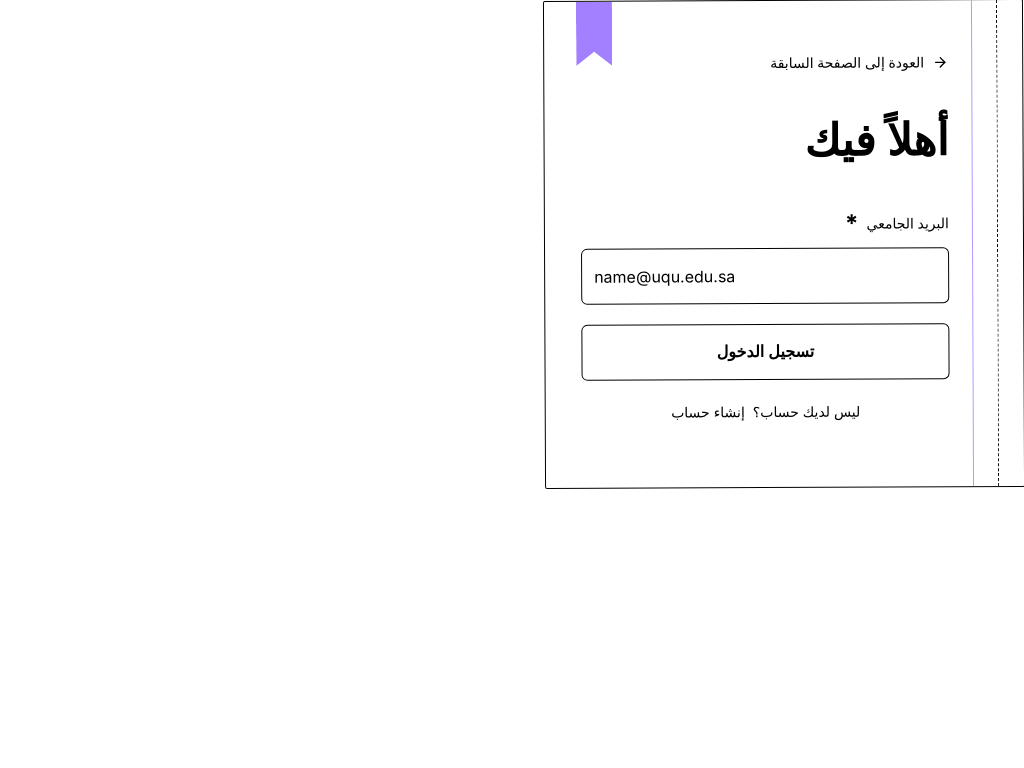
Scenario: SignInFlow (against the MSW mocks) › sends an expired code back to the email step
This screenshot has width=1024, height=768.
Type "s000000003@st.uqu.edu.sa" into the field labelled "البريد الجامعي *".
click(765, 276); type("s000000003@st.uqu.edu.sa")  # box [581,247,949,305]
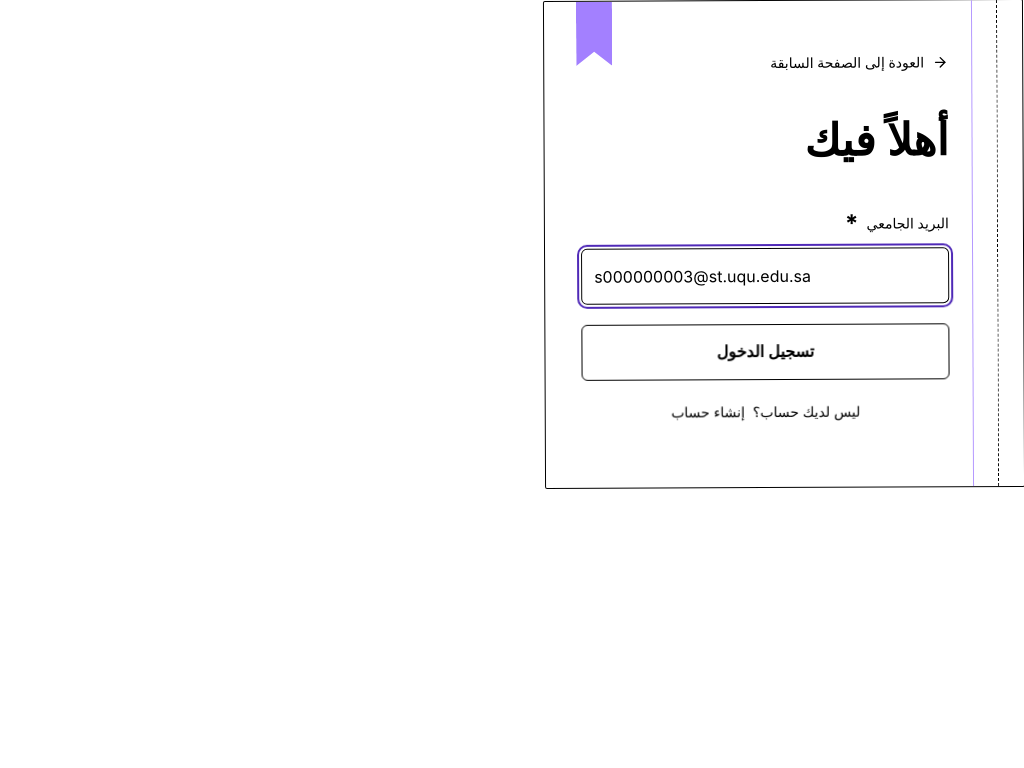
Click the button "تسجيل الدخول".
click(766, 352)  # box [581,323,950,381]
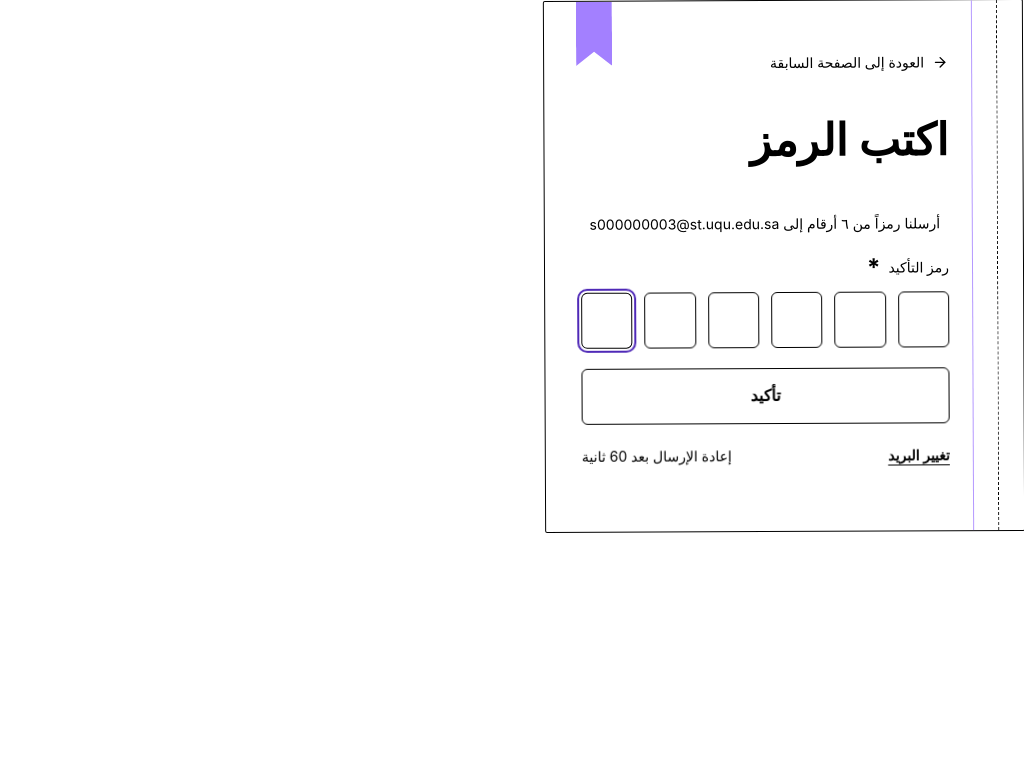
Type "111111" into the field labelled "رمز التأكيد *".
click(607, 321); type("111111")  # box [581,293,633,349]
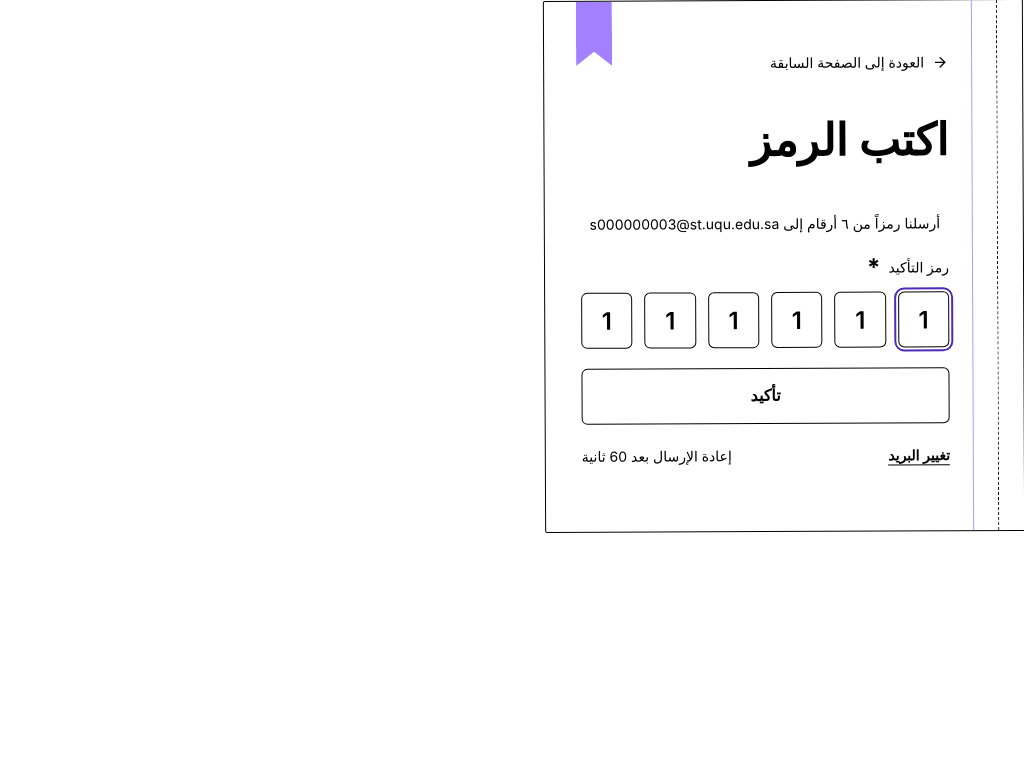
Click the button "تأكيد".
click(766, 396)  # box [581,367,950,425]
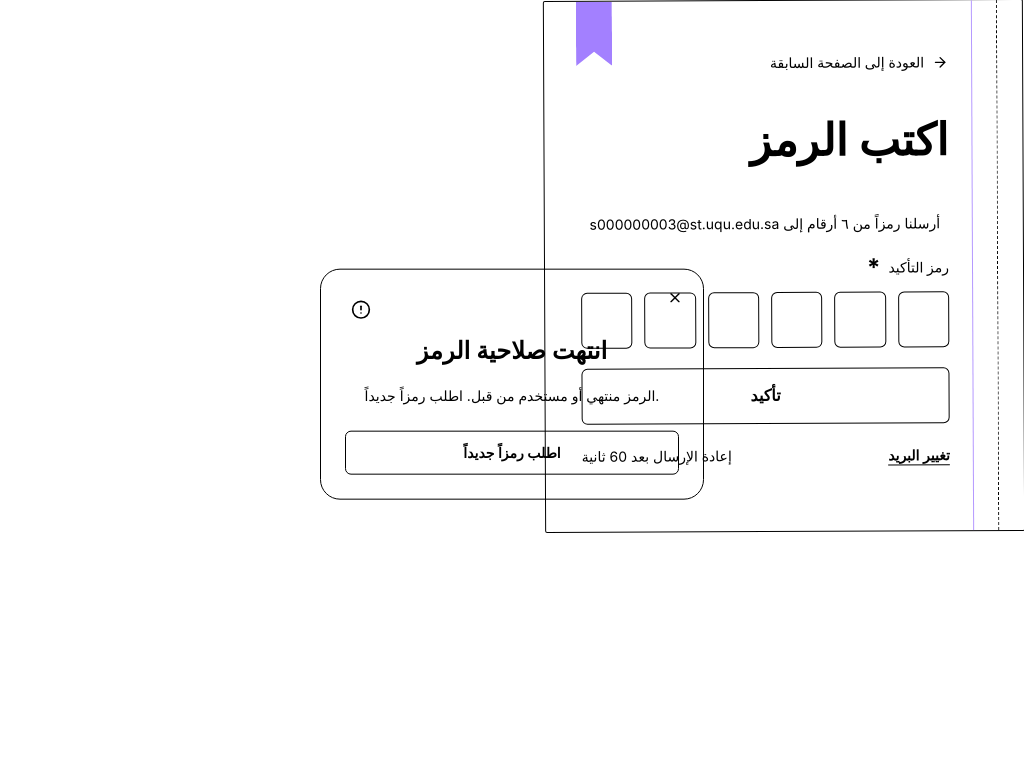
Click the button "اطلب رمزاً جديداً".
click(512, 452)  # box [345,430,679,474]
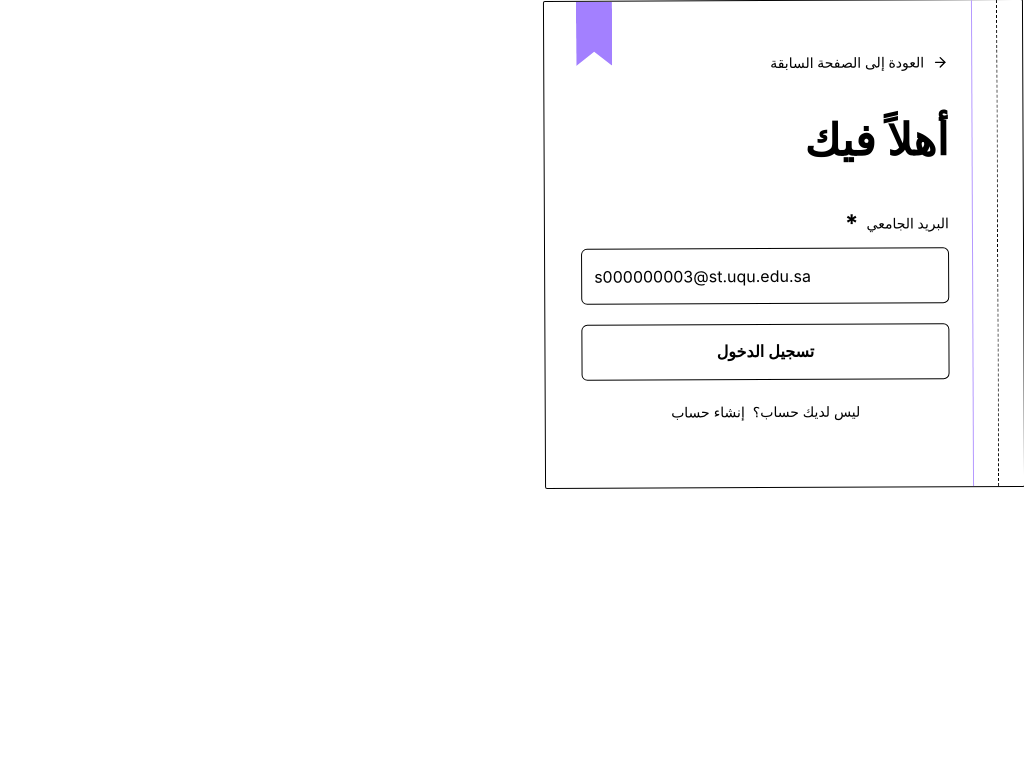
Check: the field labelled "البريد الجامعي *" is shown, box [581,247,949,305]
